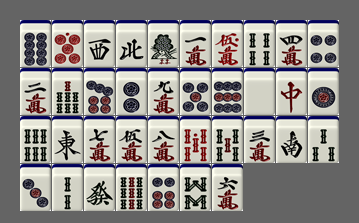0m: (212, 20, 243, 67)
0p: (52, 20, 83, 67)
0s: (180, 116, 211, 163)
1m: (180, 20, 211, 67)
1p: (308, 68, 339, 115)
1s: (148, 20, 179, 67)
1z: (52, 116, 83, 163)
2m: (20, 68, 51, 115)
2p: (116, 68, 147, 115)
2s: (52, 164, 83, 211)
2z: (276, 116, 307, 163)
3m: (244, 116, 275, 163)
3p: (20, 164, 51, 211)
3s: (308, 116, 339, 163)
3z: (84, 20, 115, 67)
4m: (276, 20, 307, 67)
4p: (308, 20, 339, 67)
4s: (244, 20, 275, 67)
4z: (116, 20, 147, 67)
5m: (116, 116, 147, 163)
5p: (180, 68, 211, 115)
5s: (212, 116, 243, 163)
5z: (244, 68, 275, 115)
6m: (212, 164, 243, 211)
6p: (148, 164, 179, 211)
6s: (20, 116, 51, 163)
6z: (84, 164, 115, 211)
7m: (84, 116, 115, 163)
7p: (84, 68, 115, 115)
7s: (52, 68, 83, 115)
7z: (276, 68, 307, 115)
8m: (148, 116, 179, 163)
8p: (20, 20, 51, 67)
8s: (180, 164, 211, 211)
9m: (148, 68, 179, 115)
9p: (212, 68, 243, 115)
9s: (116, 164, 147, 211)
